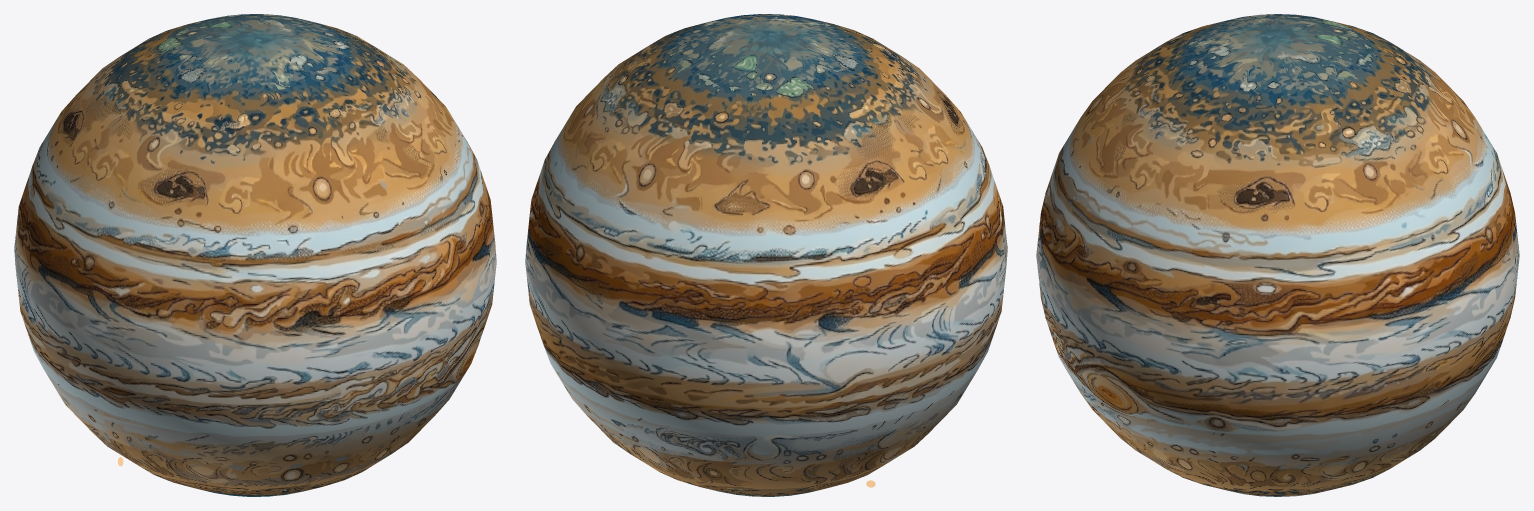
Rendered from Jupiter.glb.
3 renders of one model, left to right at view 1: azimuth 30°, elevation 25°; view 2: azimuth 150°, elevation 25°; view 3: azimuth 270°, elevation 25°, orthographic.
Parts seen in each view (by area): view 1: Mars; view 2: Mars; view 3: Mars.
Part boxes in pixels (x1,y1,x2,y2): Mars: (14, 14, 496, 496); Mars: (525, 14, 1007, 496); Mars: (1036, 14, 1519, 496).
Bounding box in the file's own units: 2 × 2.01 × 2.
2 materials, 1 textured.
